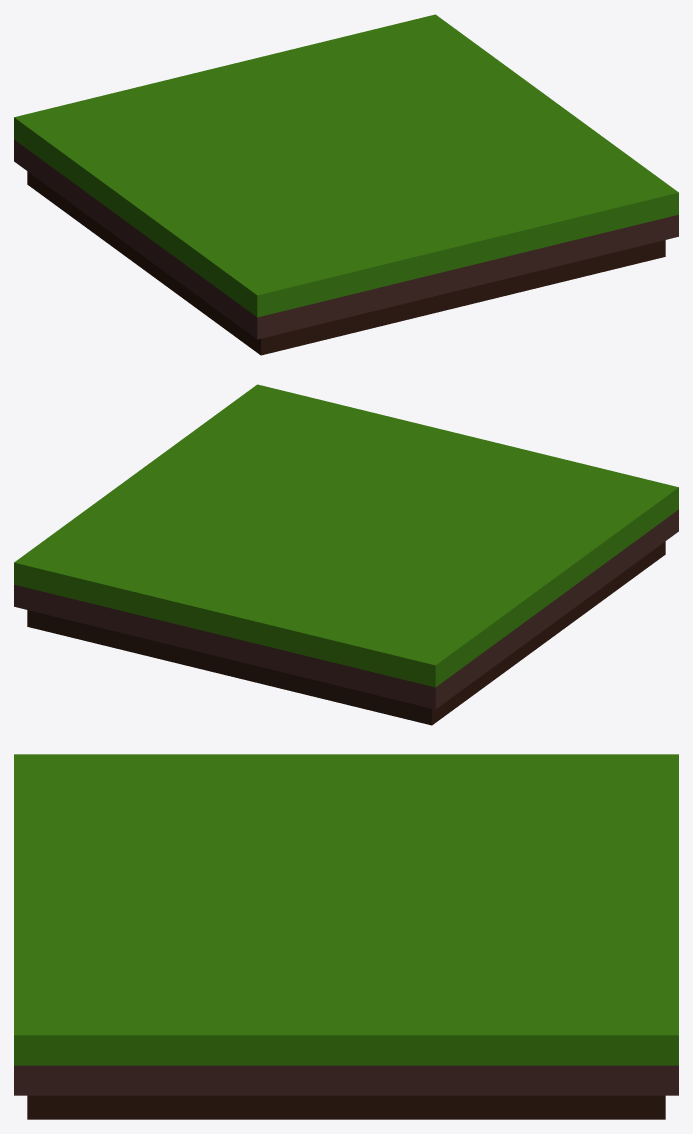
The model's file is Tile_Grass_Simple.fbx.
3 renders of one model, top to bottom at view 1: azimuth 30°, elevation 25°; view 2: azimuth 150°, elevation 25°; view 3: azimuth 270°, elevation 25°, orthographic. The views are drawn at different scales.
Parts seen in each view (by area): view 1: Tile_Grass_Simple; view 2: Tile_Grass_Simple; view 3: Tile_Grass_Simple.
Part boxes in pixels (x1,y1,x2,y2): Tile_Grass_Simple: [14, 14, 678, 355]; Tile_Grass_Simple: [14, 384, 678, 725]; Tile_Grass_Simple: [14, 754, 678, 1119].
Size of the model in its own units: 100 by 14.9 by 100.
